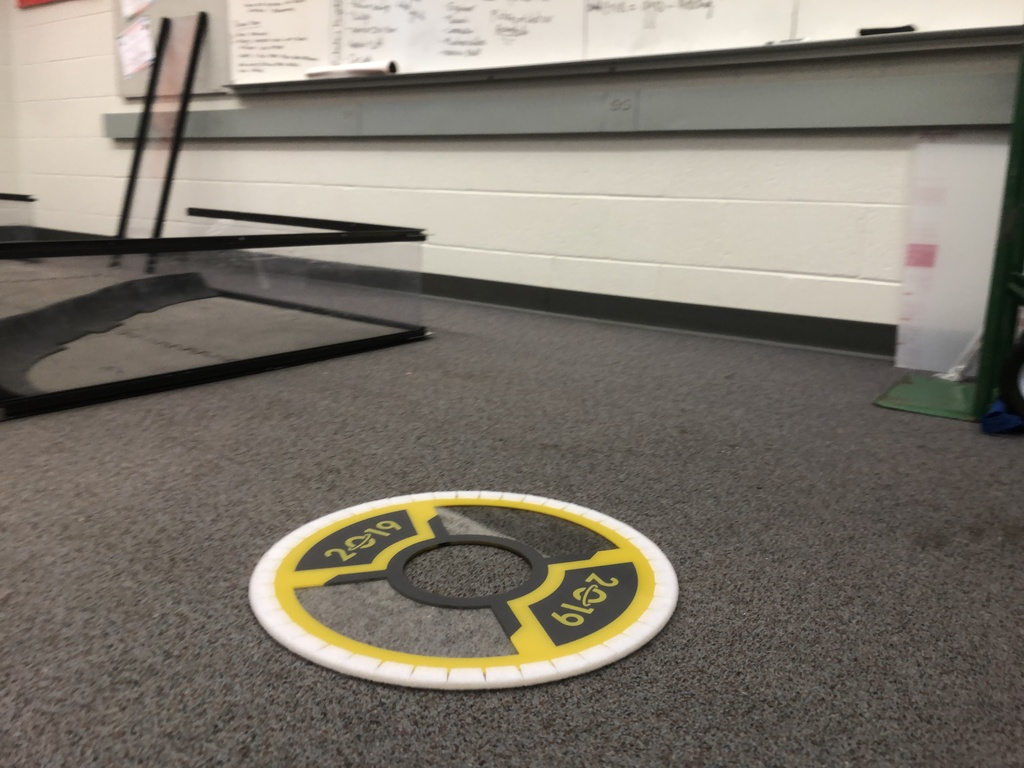hatch_panel: (236, 475, 699, 693)
